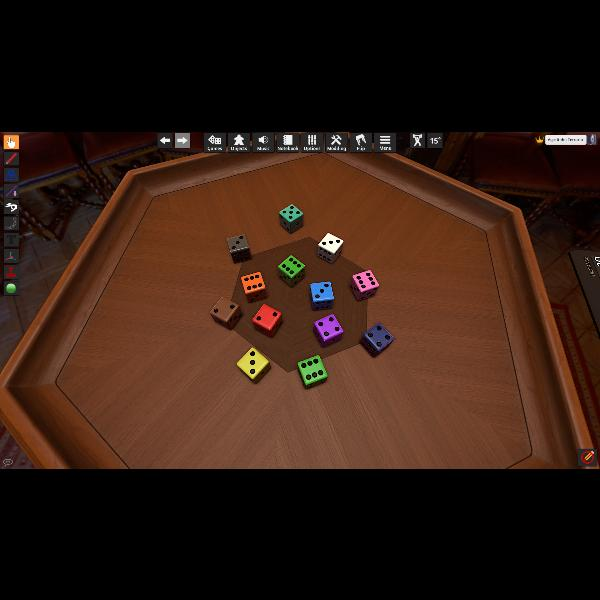d6: (236, 347, 272, 382), (360, 322, 392, 358), (252, 303, 282, 337), (211, 296, 241, 330), (313, 314, 343, 347), (298, 356, 328, 388), (350, 269, 378, 301), (241, 270, 267, 302), (278, 255, 304, 287), (316, 232, 342, 264), (278, 203, 304, 233), (227, 234, 251, 264), (309, 281, 333, 311)
